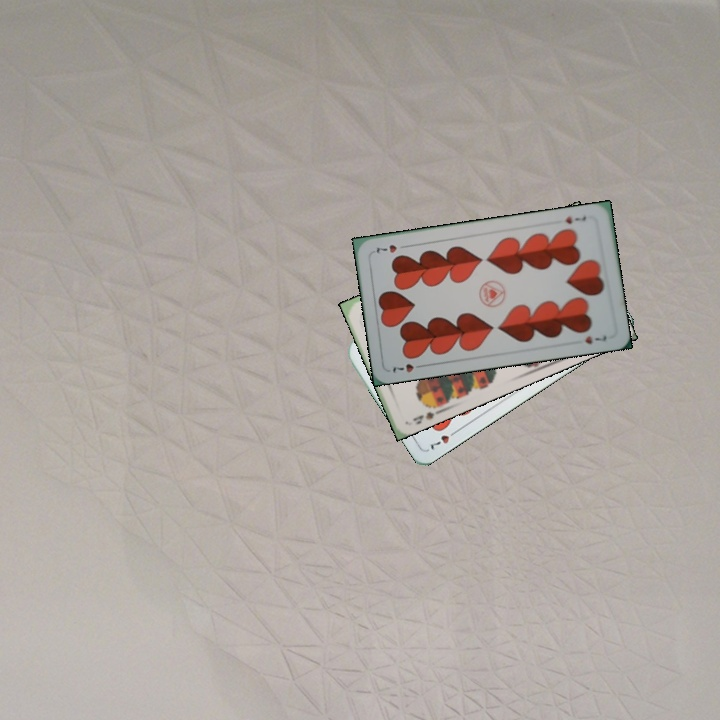H7: (425, 425, 461, 453), (389, 360, 427, 375), (561, 212, 589, 227)
S9: (408, 398, 445, 427)
